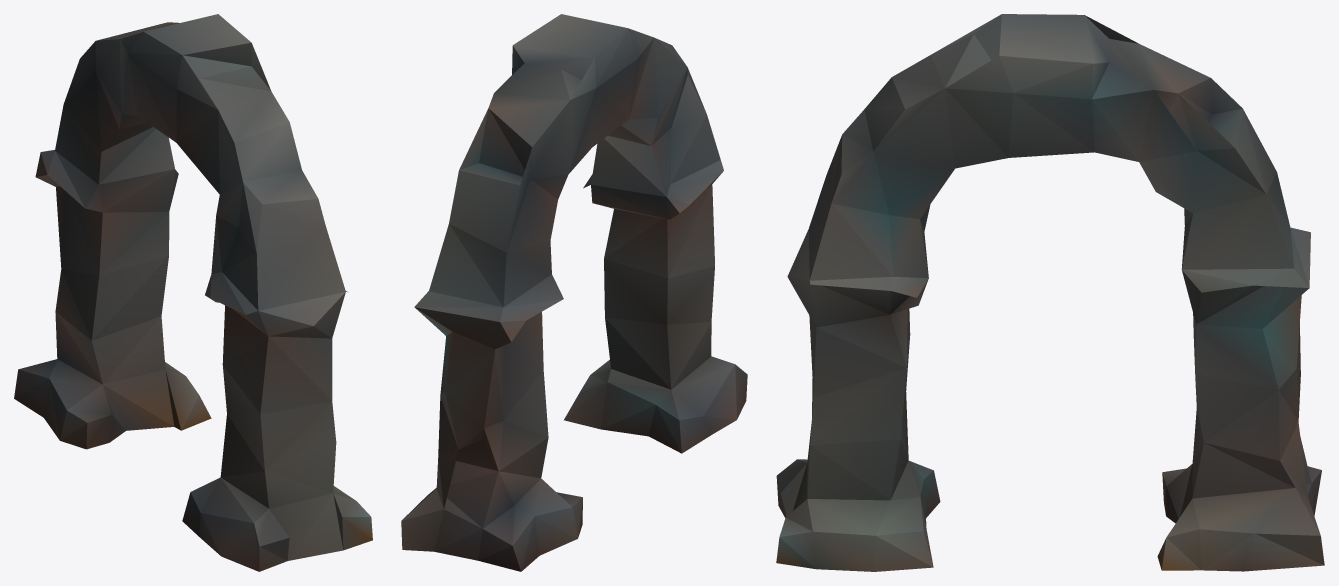
File: portal.glb
3 renders of one model, left to right at view 1: azimuth 30°, elevation 25°; view 2: azimuth 150°, elevation 25°; view 3: azimuth 270°, elevation 25°, orthographic. The views are drawn at different scales.
Parts seen in each view (by area): view 1: portal-far; view 2: portal-far; view 3: portal-far.
Boxes of the visible parts, left/top/right/bottom form: portal-far: left=14, top=14, right=372, bottom=571; portal-far: left=401, top=14, right=747, bottom=571; portal-far: left=776, top=14, right=1324, bottom=571.
Bounding box in the file's own units: 0.3147 × 0.9774 × 0.9617.
